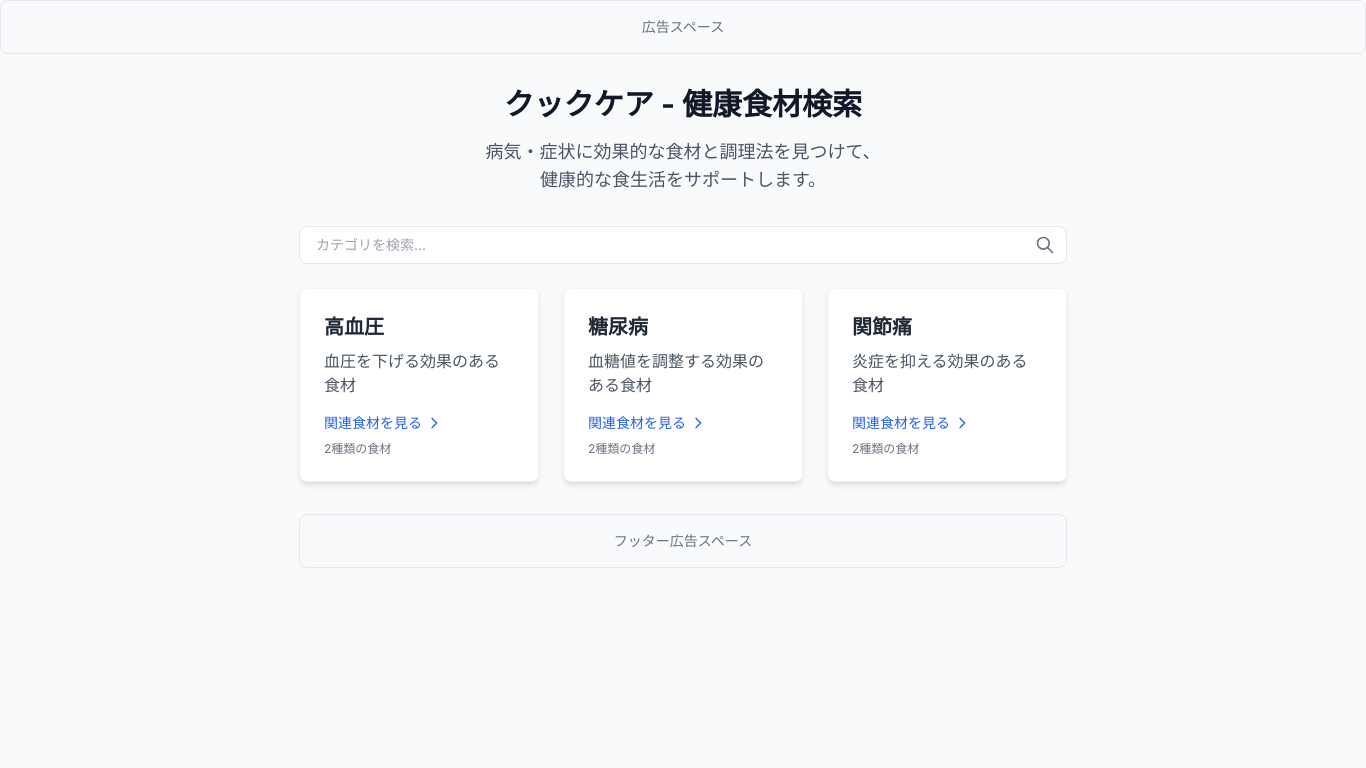
Test case: Home Page › filters categories when searching
The width and height of the screenshot is (1366, 768).
expect the heading "高血圧" is shown: met, box [324,315,384,339]
// Search for a category
Step 1. Type "高血圧" into the field with placeholder "カテゴリを検索..." → [683, 245], box [299,226,1067,264]
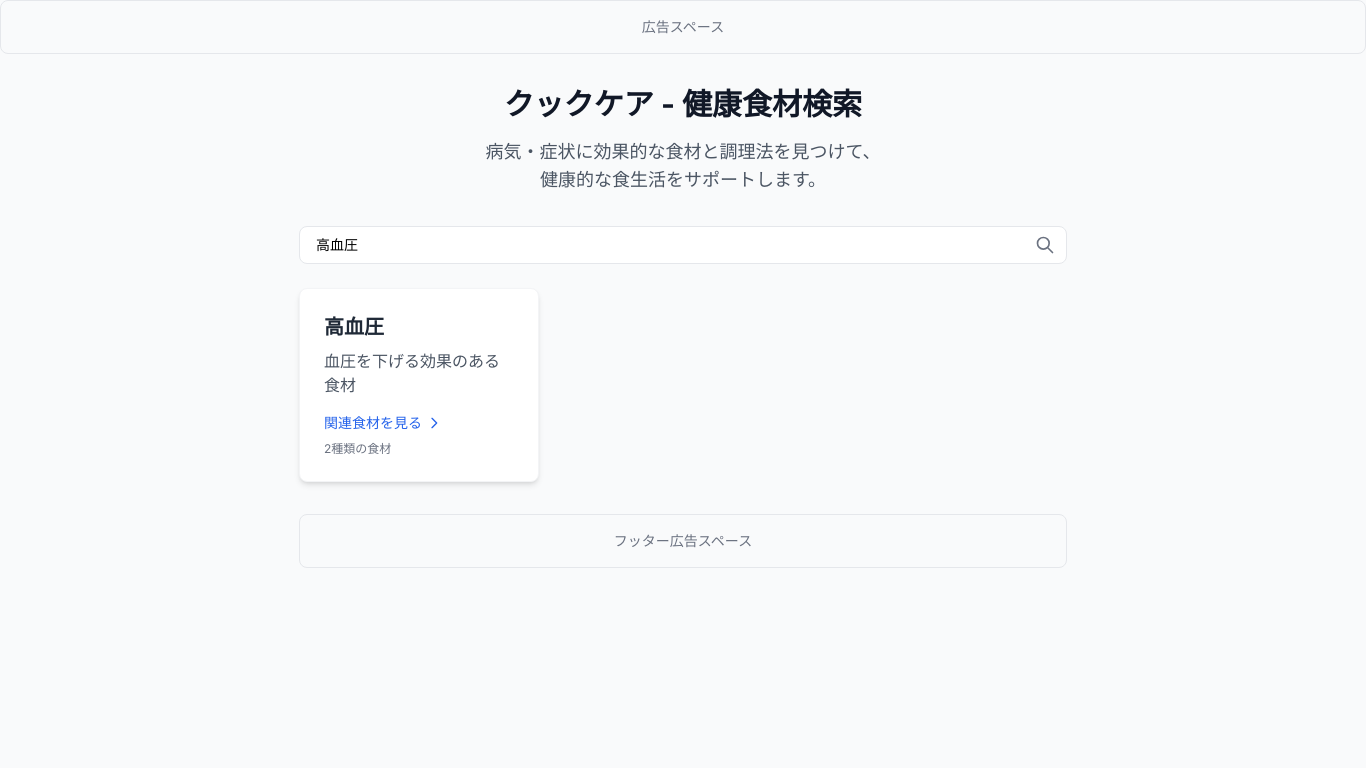
expect the heading "高血圧" is shown: met, box [324,315,384,339]
expect the link "糖尿病" is gone: met
expect the link "関節痛" is gone: met
